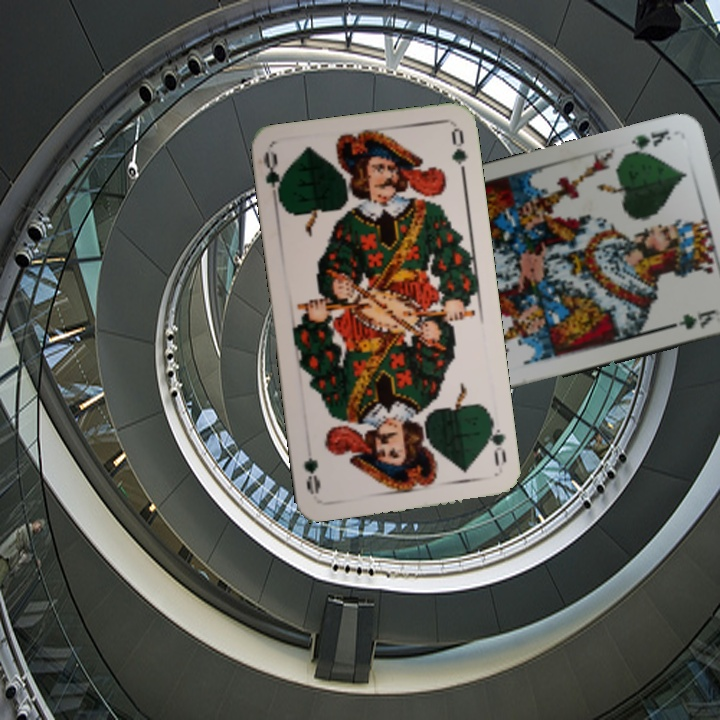GK: (622, 126, 674, 157)
GO: (259, 149, 288, 209), (482, 414, 509, 469)
